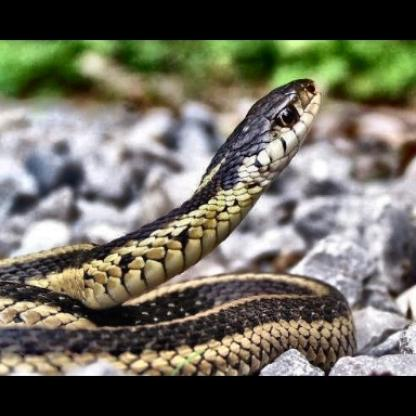Snake: (9, 76, 353, 357)
